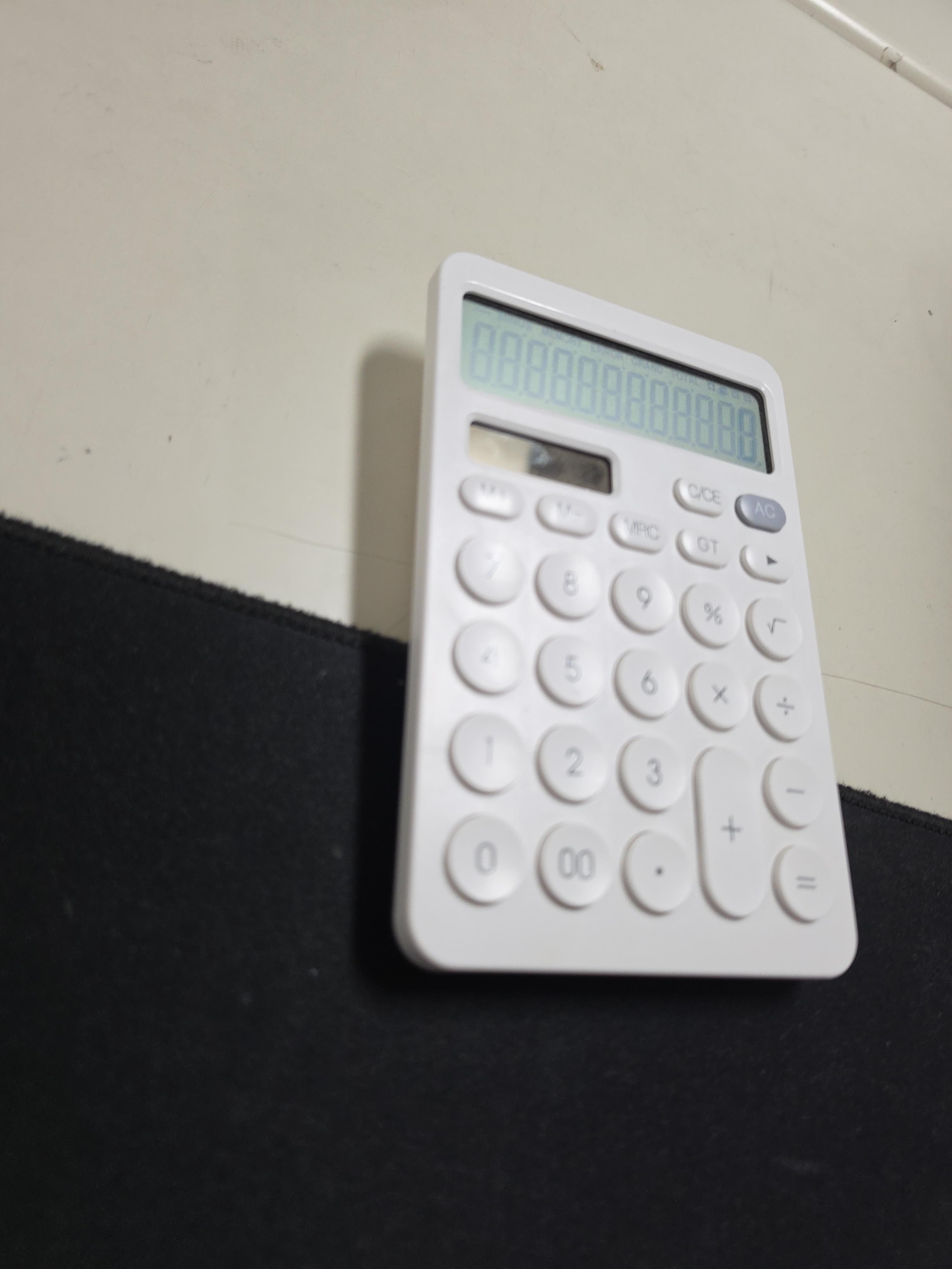calculator: (394, 251, 860, 980)
